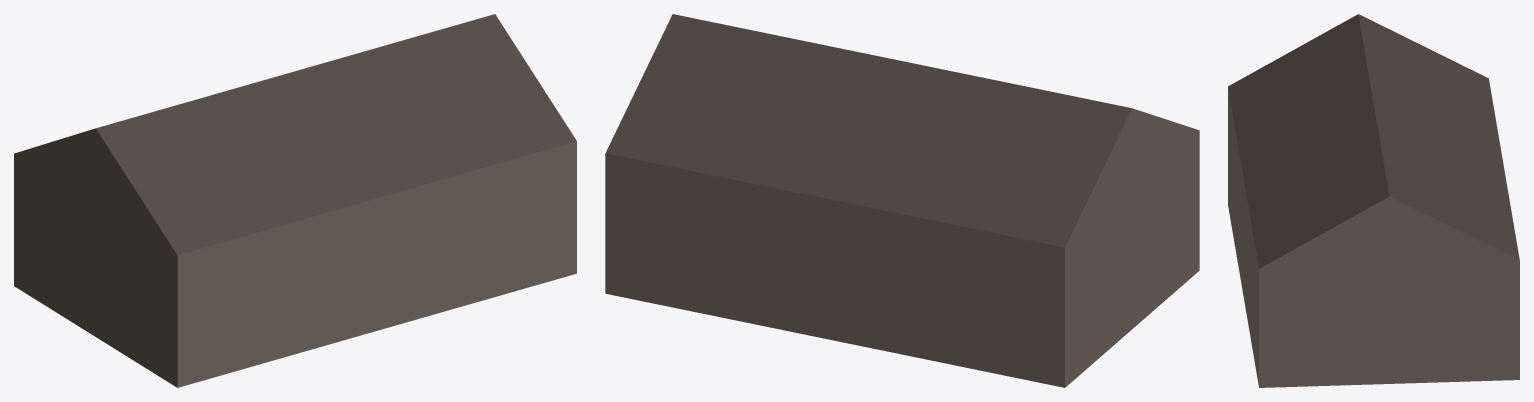
3 renders of one model, left to right at view 1: azimuth 30°, elevation 25°; view 2: azimuth 150°, elevation 25°; view 3: azimuth 270°, elevation 25°, orthographic. The views are drawn at different scales.
Visible parts, largest first — view 1: HP-w299224153; view 2: HP-w299224153; view 3: HP-w299224153.
Boxes of the visible parts, bbox=[...] form: HP-w299224153: bbox=[14, 14, 576, 387]; HP-w299224153: bbox=[605, 14, 1199, 387]; HP-w299224153: bbox=[1228, 14, 1519, 387].
Size of the model in its own units: 20.61 by 9.45 by 13.34.
